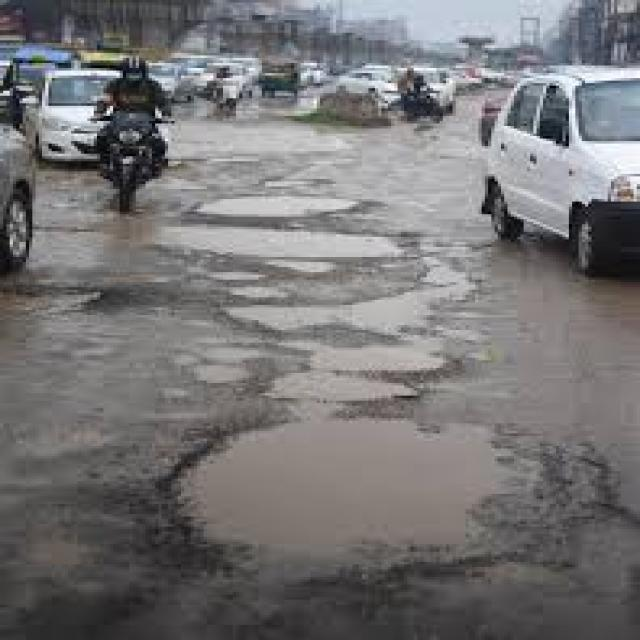Pothole: (181, 292, 520, 587)
